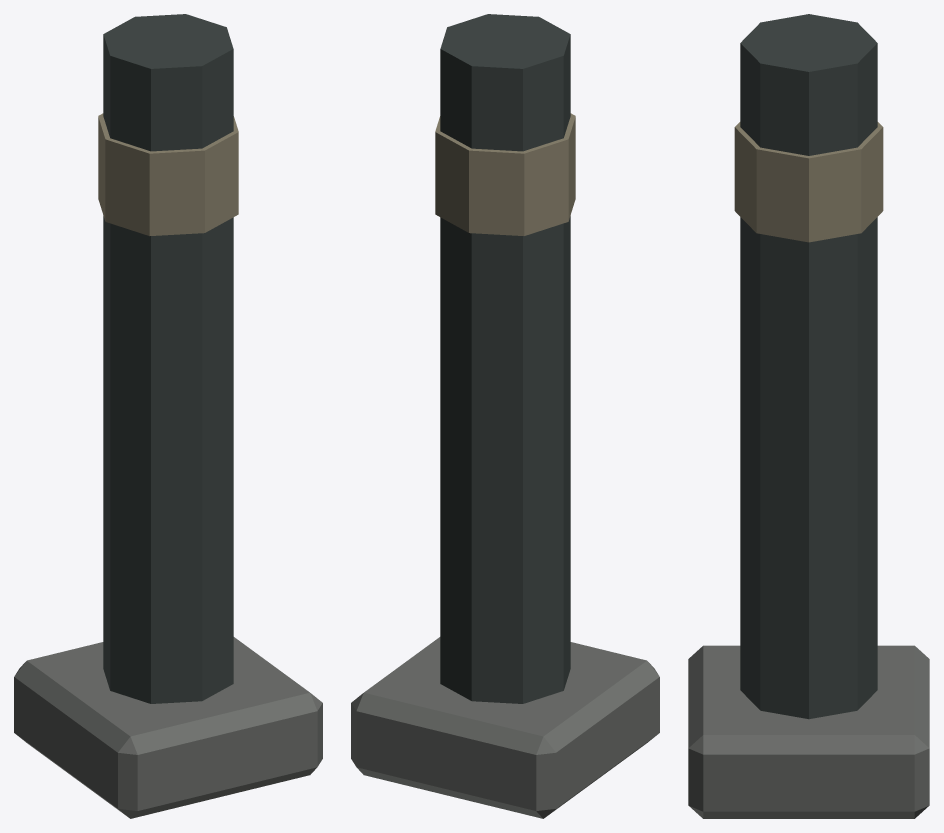
File: Bollard01.fbx
3 views of the same model, side by side, from view 1: azimuth 30°, elevation 25°; view 2: azimuth 150°, elevation 25°; view 3: azimuth 270°, elevation 25° (orthographic).
Parts seen in each view (by area): view 1: Bollard, Base, Reflector; view 2: Bollard, Base, Reflector; view 3: Bollard, Base, Reflector.
Part boxes in pixels (bbox=[...]): Bollard: bbox=[103, 14, 233, 703]; Base: bbox=[14, 637, 322, 818]; Reflector: bbox=[98, 113, 238, 235]; Bollard: bbox=[440, 14, 570, 703]; Base: bbox=[351, 637, 659, 818]; Reflector: bbox=[435, 113, 575, 235]; Bollard: bbox=[740, 14, 877, 719]; Base: bbox=[688, 645, 929, 818]; Reflector: bbox=[734, 122, 883, 242].
Bounding box in the file's own units: 26 × 87 × 26.
